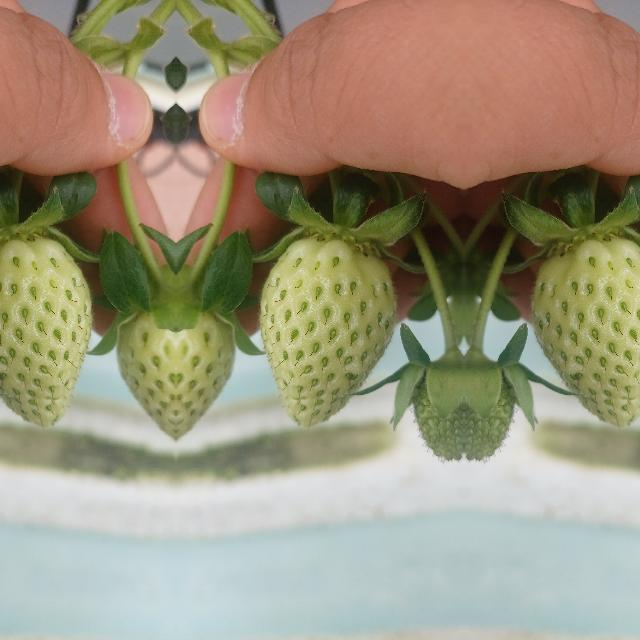Health_25: (259, 234, 395, 426), (531, 233, 640, 426), (0, 233, 91, 426), (175, 304, 241, 442), (109, 304, 175, 442), (410, 368, 462, 462), (464, 368, 516, 462)
